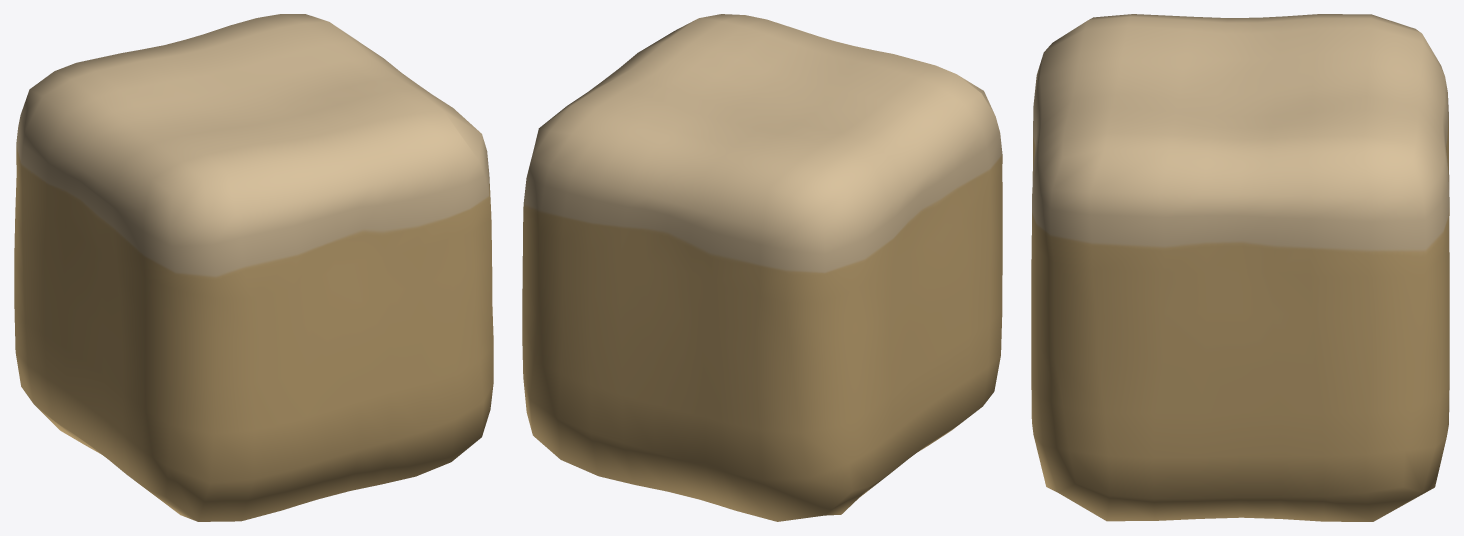
File: FullSand.fbx
3 views of the same model, side by side, from view 1: azimuth 30°, elevation 25°; view 2: azimuth 150°, elevation 25°; view 3: azimuth 270°, elevation 25° (orthographic). The views are drawn at different scales.
Parts seen in each view (by area): view 1: LOW; view 2: LOW; view 3: LOW.
Part boxes in pixels (box(x1,y1,x2,y2)): LOW: box(14, 14, 493, 521); LOW: box(522, 14, 1002, 521); LOW: box(1031, 14, 1449, 521).
Bounding box in the file's own units: 1.05 × 1.05 × 1.05.
Materials: 1 (1 with a texture image).
